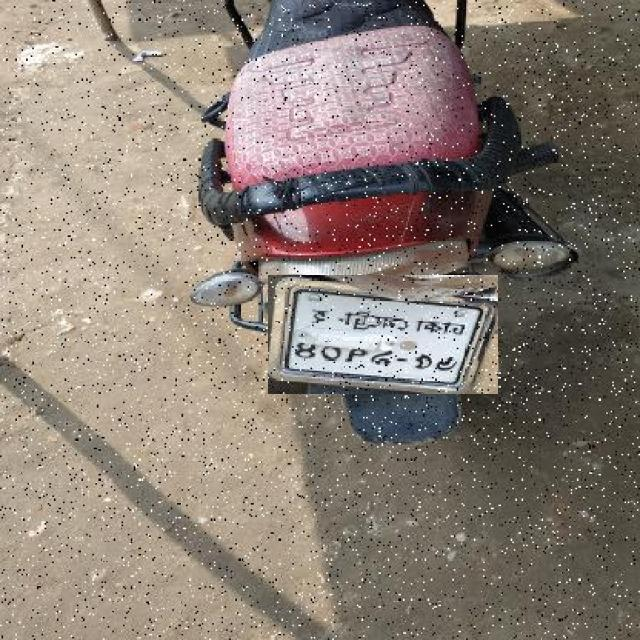numberplate: (268, 275, 498, 394)
